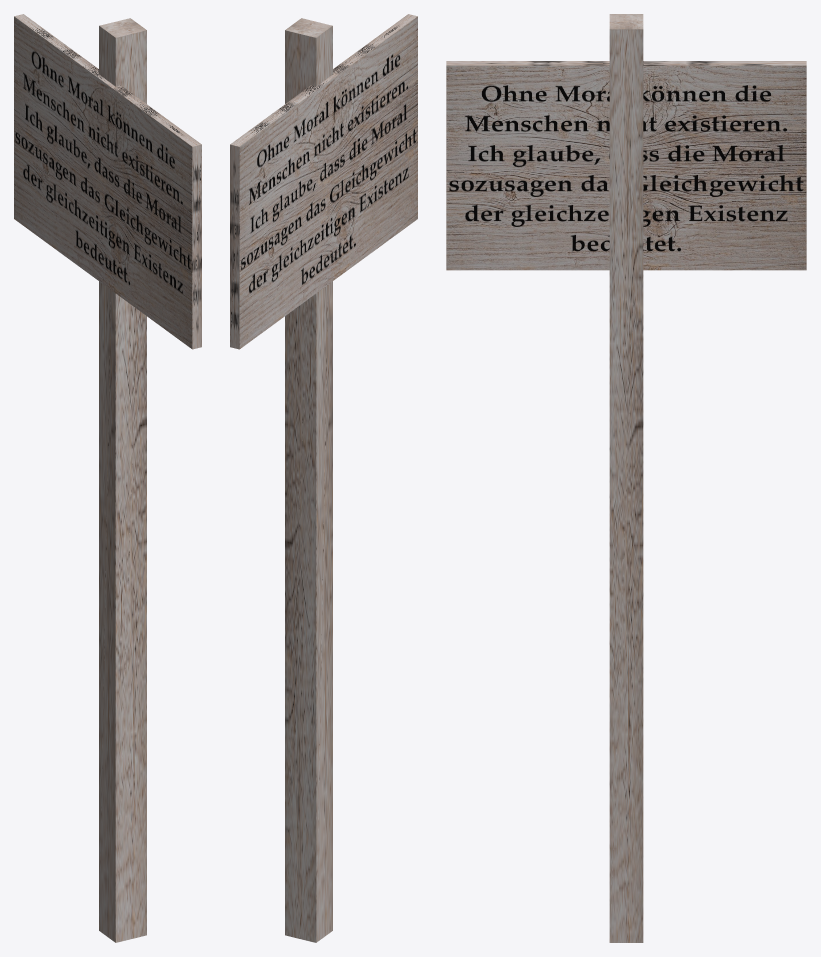
Rendered from Schild Scheune4.fbx.
3 views of the same model, side by side, from view 1: azimuth 30°, elevation 25°; view 2: azimuth 150°, elevation 25°; view 3: azimuth 270°, elevation 25° (orthographic).
Visible parts, largest first — view 1: Cube__1_, Cube; view 2: Cube__1_, Cube; view 3: Cube__1_, Cube.
Part boxes in pixels (x1,y1,x2,y2): Cube__1_: [14, 14, 201, 349]; Cube: [99, 18, 146, 942]; Cube__1_: [230, 14, 417, 349]; Cube: [285, 18, 332, 942]; Cube__1_: [446, 61, 806, 270]; Cube: [609, 14, 643, 942].
Bounding box in the file's own units: 12.87 × 313 × 112.
